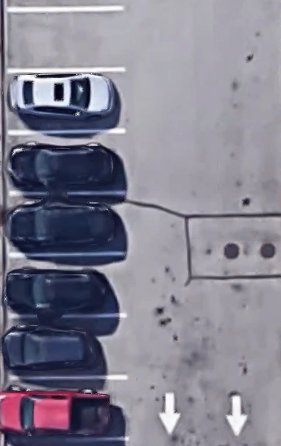Occupied: (4, 69, 125, 132), (3, 254, 124, 317), (5, 378, 126, 441), (3, 133, 125, 194), (4, 318, 125, 378), (3, 194, 123, 253)
Vacant: (4, 7, 124, 70)
